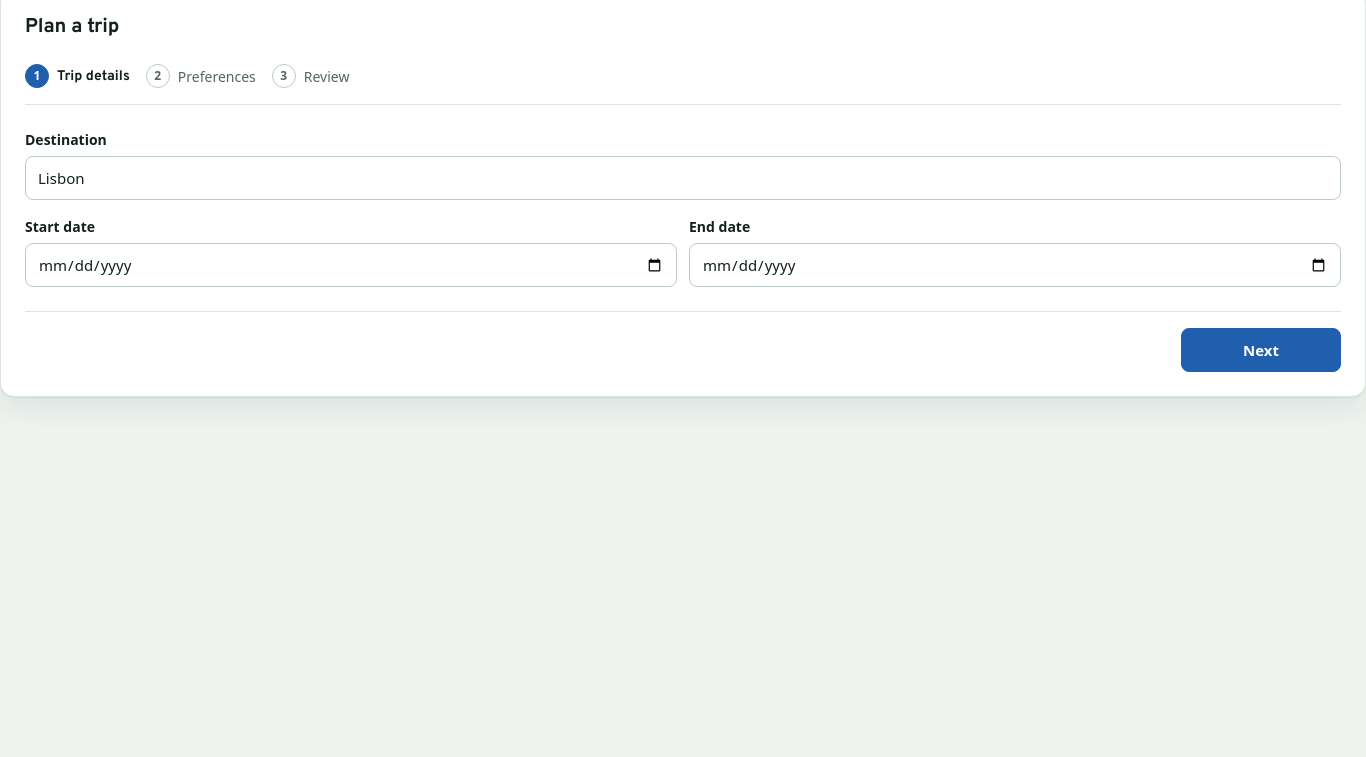
Scenario: PreferenceForm › switches the budget to the city's currency and asks for a new amount
Replace the text in the dropdown labelled "Destination" with "Toky" at (683, 178), box [25,156,1341,200]
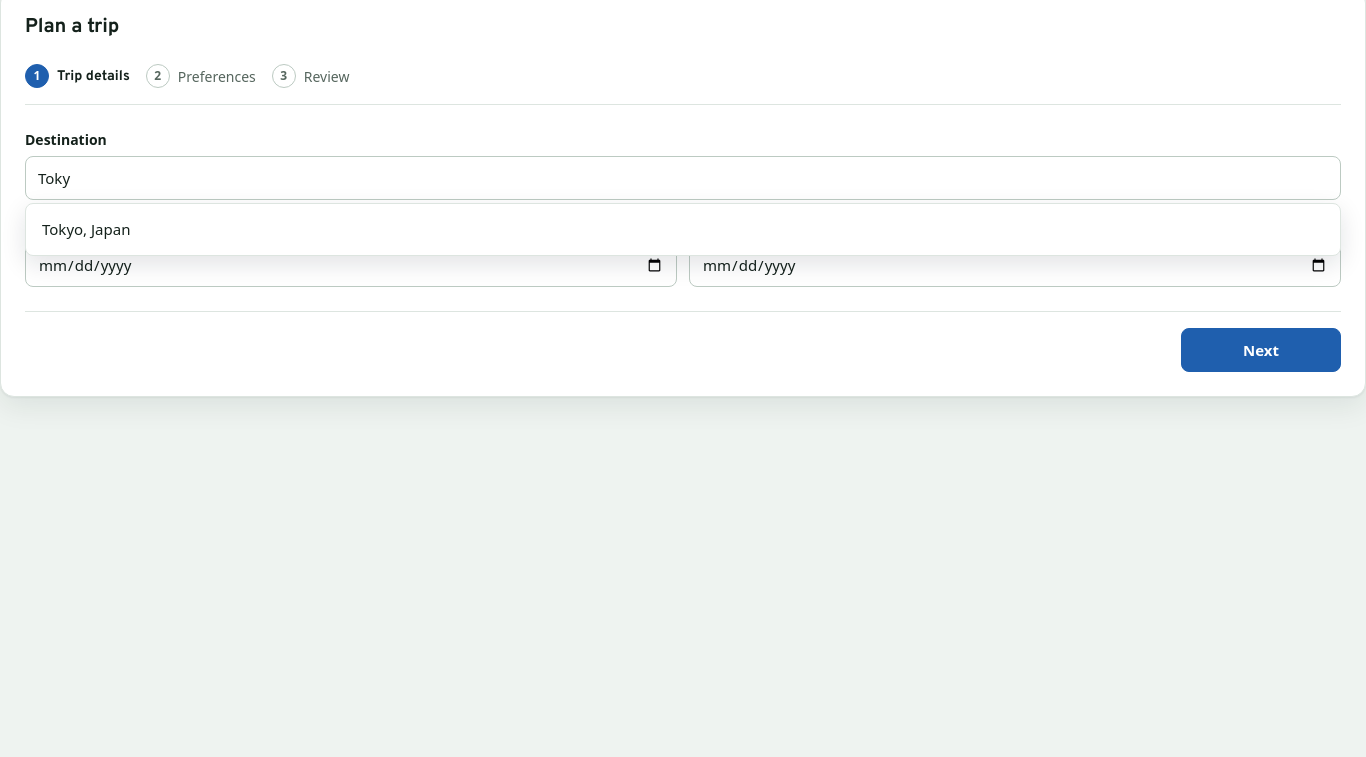
Click the option "Tokyo, Japan".
click(86, 229)  # box [42,219,130,239]
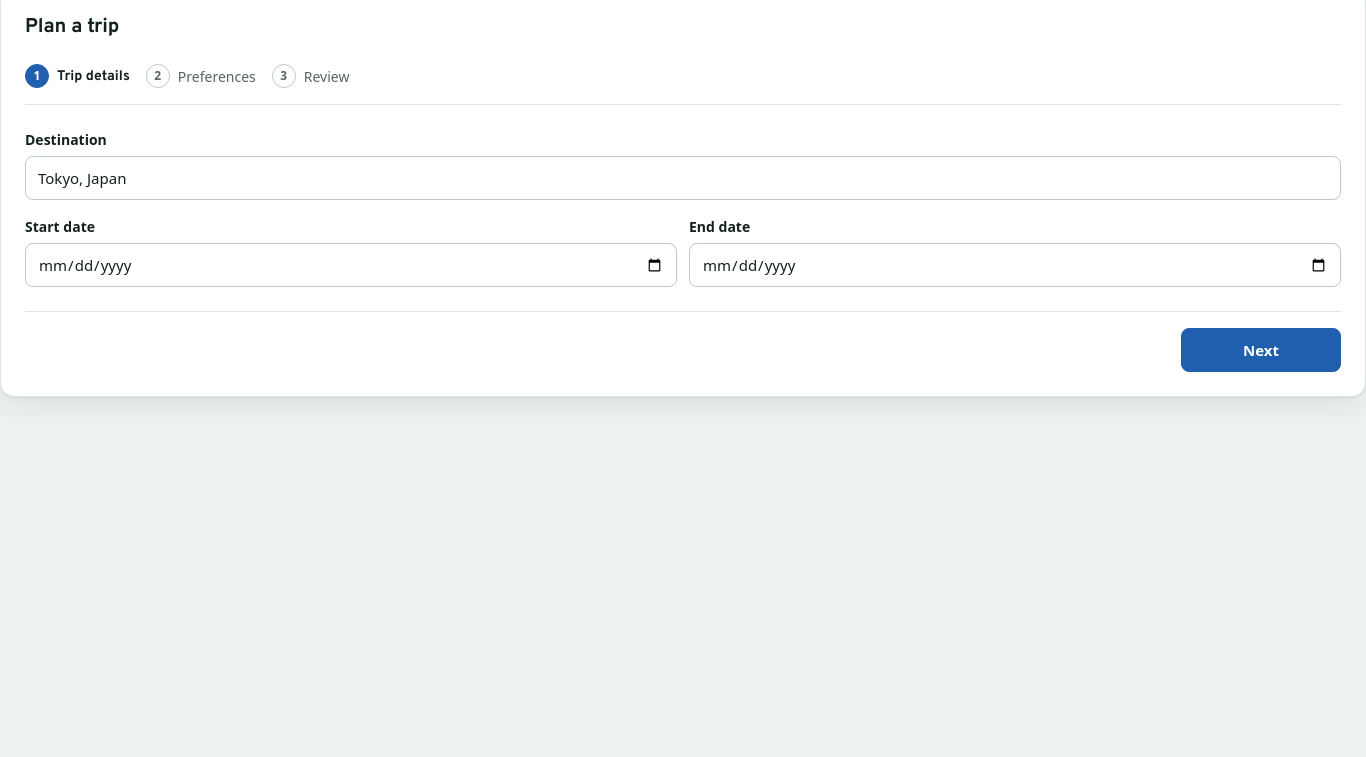
Type "2030-05-01" into the date field labelled "Start date".
click(351, 265); type("2030-05-01")  # box [25,243,677,287]
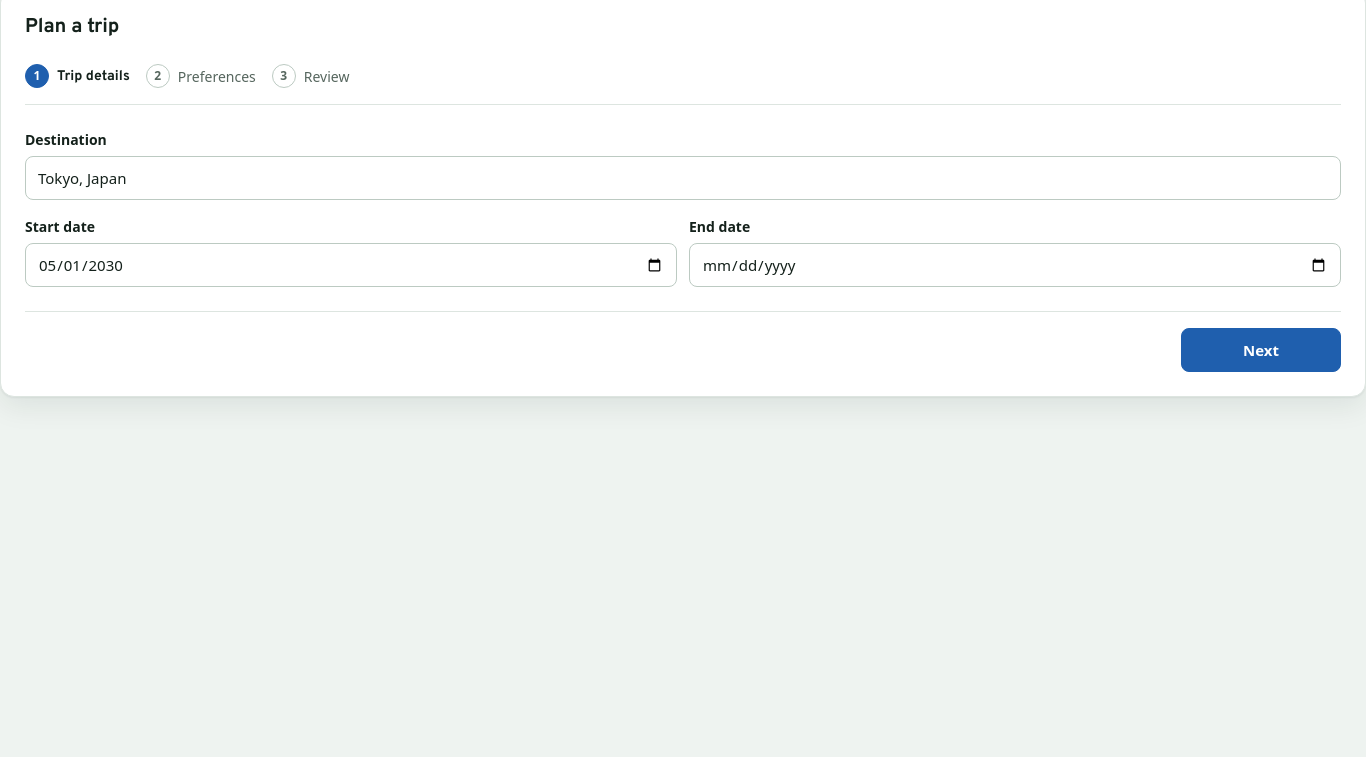
Type "2030-05-03" into the date field labelled "End date".
click(1015, 265); type("2030-05-03")  # box [689,243,1341,287]
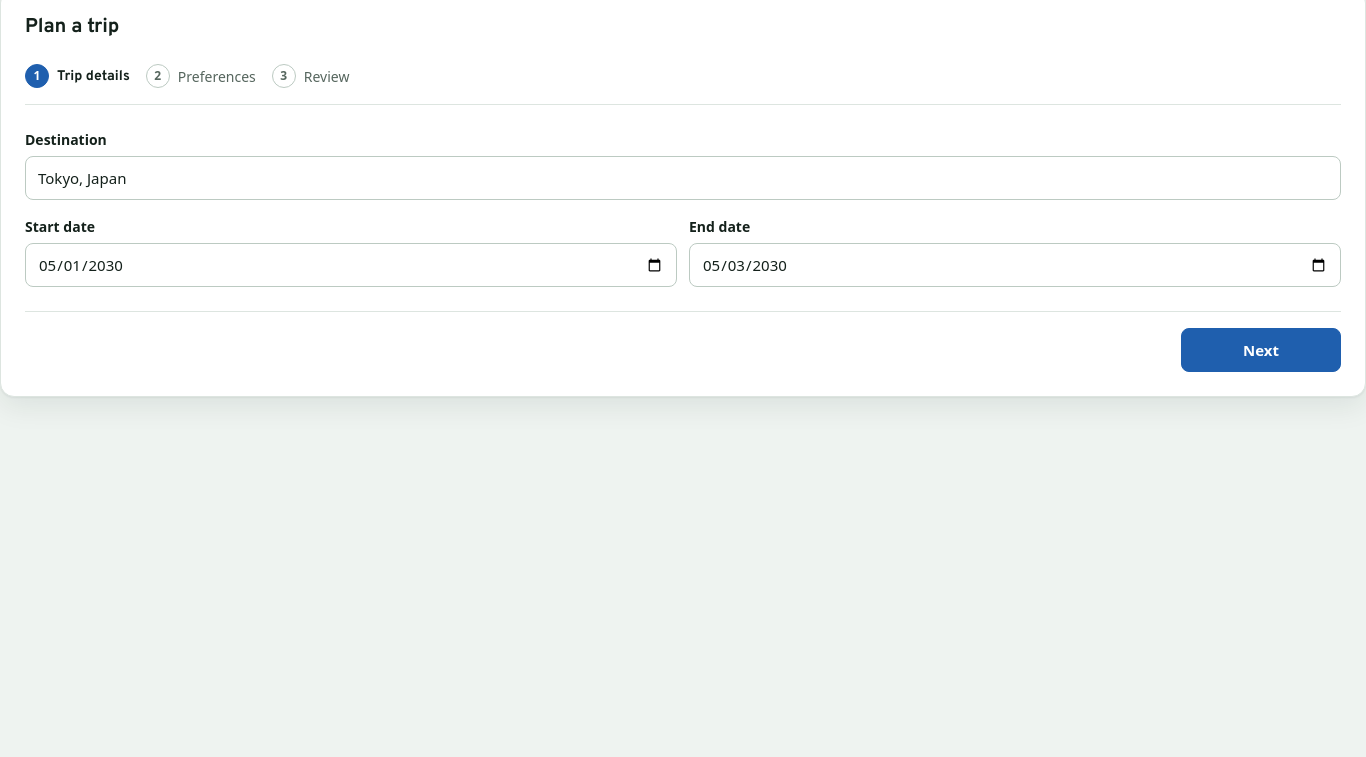
Click the button "Next".
click(1261, 350)  # box [1181,328,1341,372]
(page scrolled)
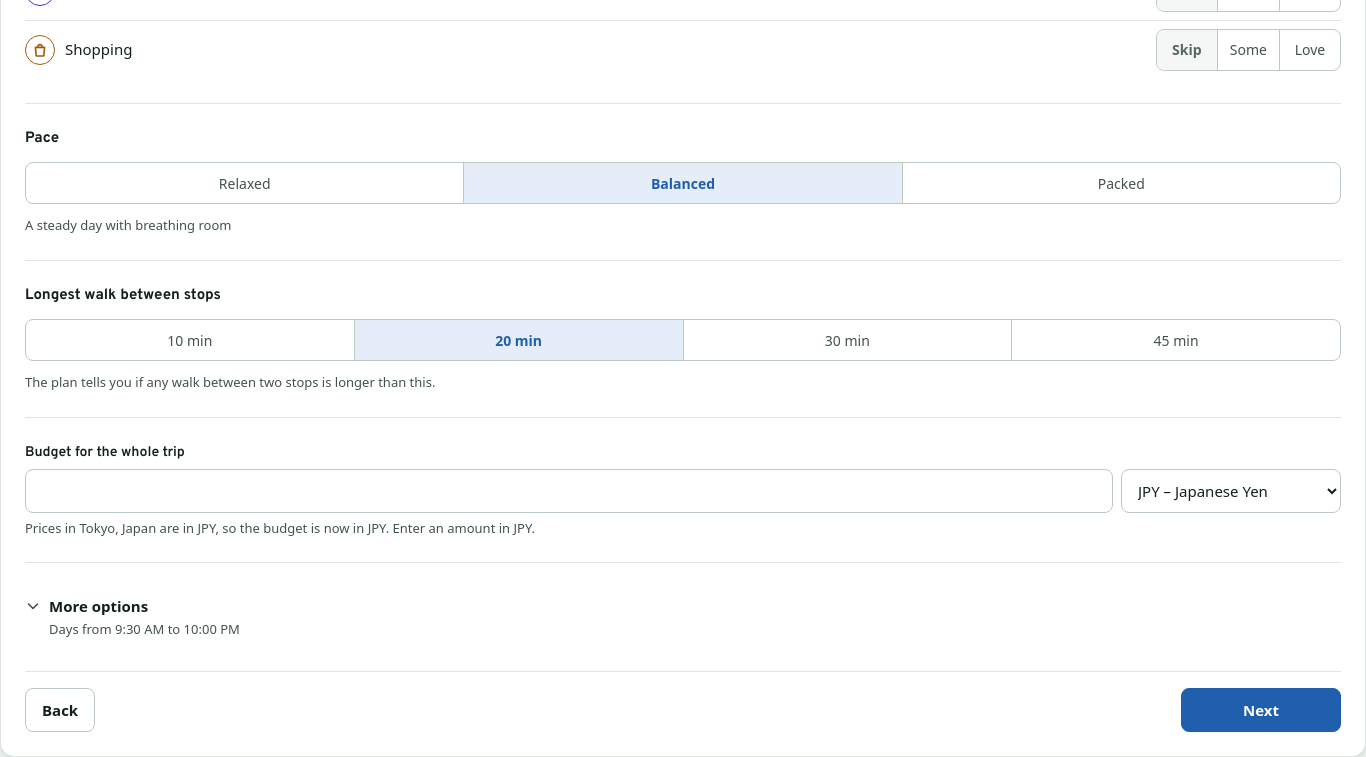
Expected: the number field labelled "Budget for the whole trip" is empty, [25,468,1113,512]
Result: the dropdown named "Budget currency" shows "JPY – Japanese Yen" at [1121,468,1341,512]
Result: the text "Enter an amount in JPY" is shown at [25,518,535,536]
